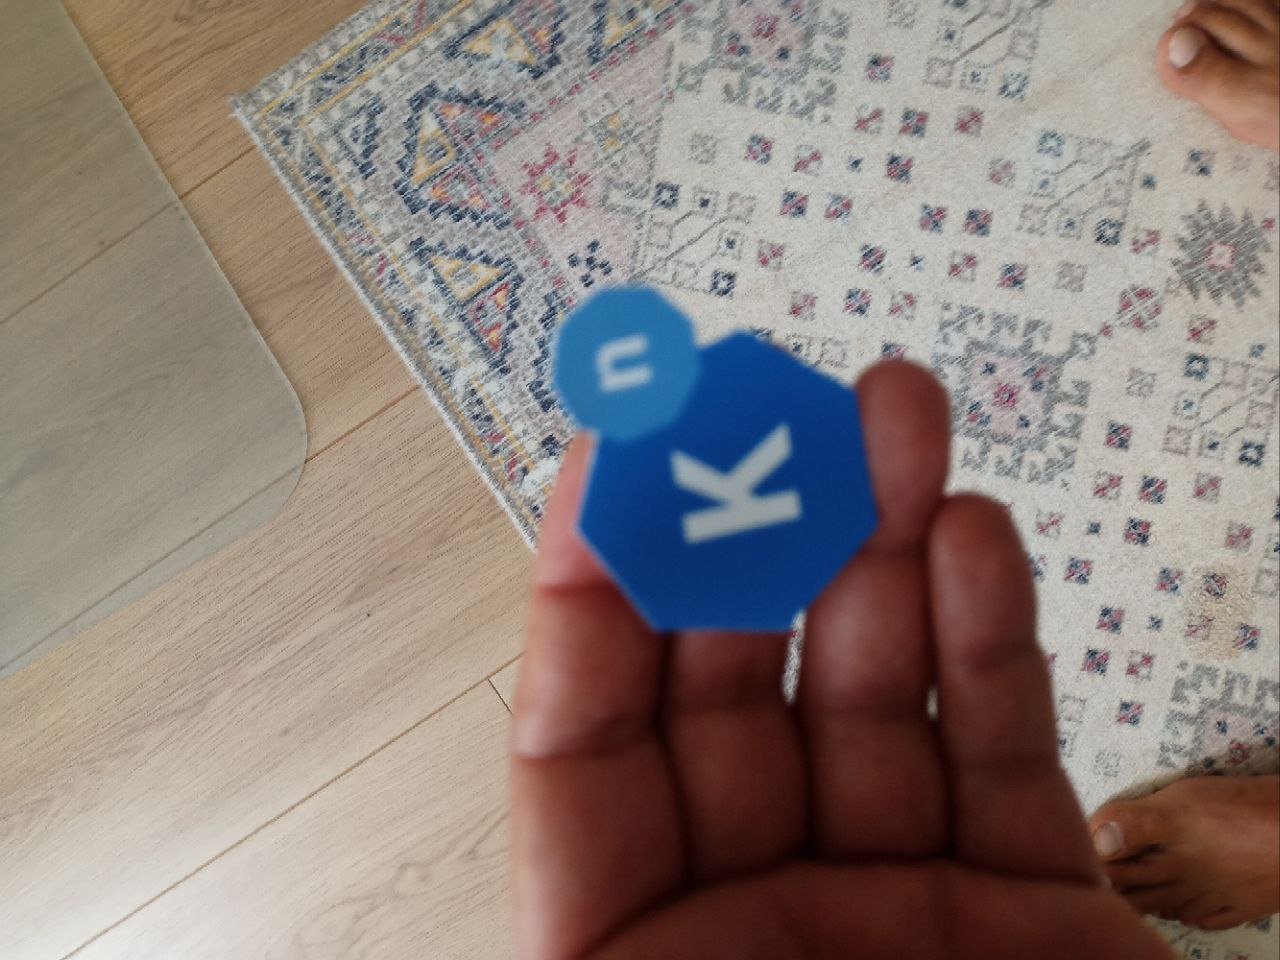knative: (552, 282, 882, 632)
